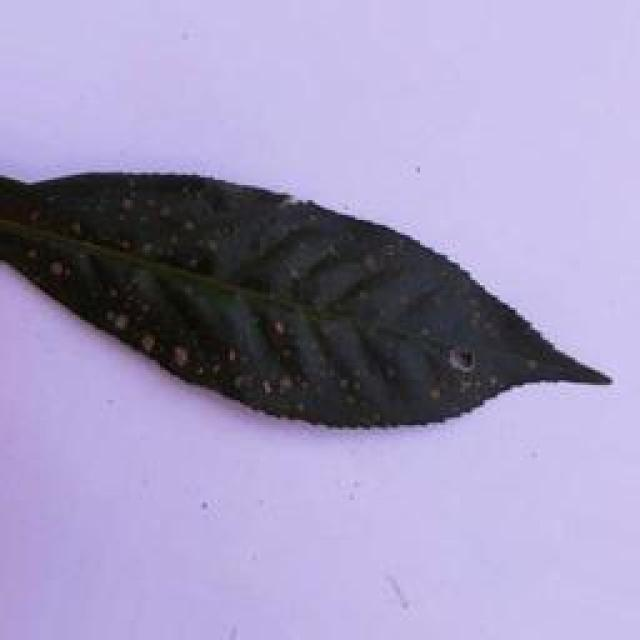Algal Leaf Spot: (5, 137, 622, 451)
